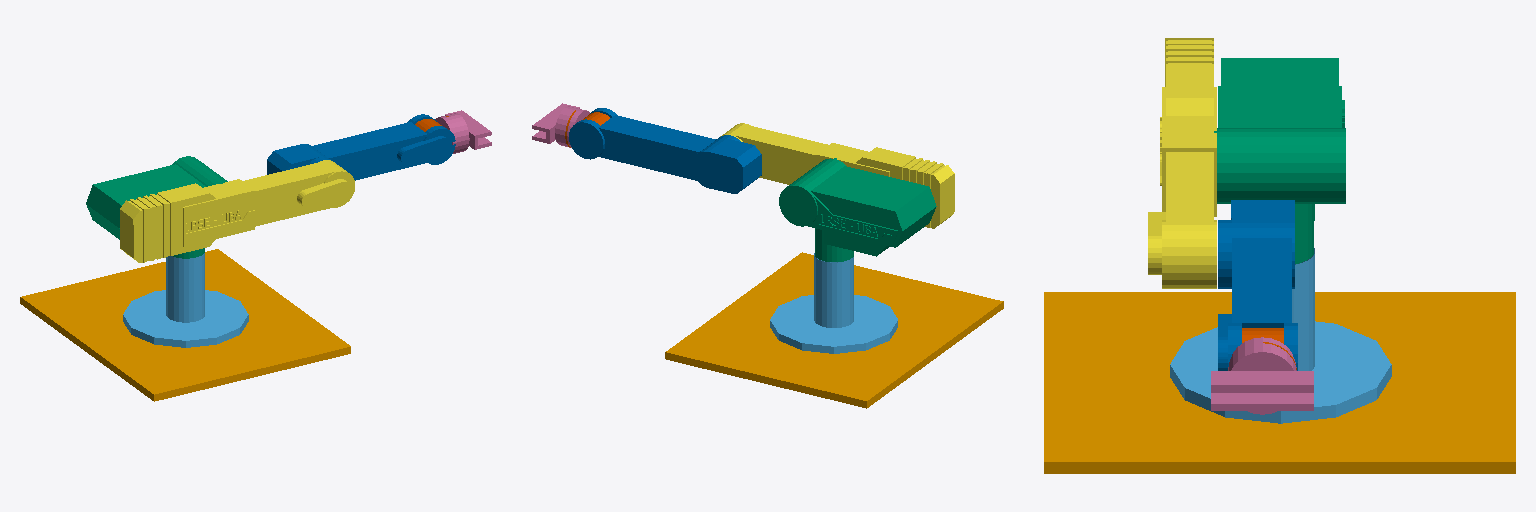
robot.urdf — Scorbot_7:
<?xml version="1.0"?>
<robot name="Scorbot_7">
<link name="table">
    <visual>
      <geometry>
		<mesh filename="package://scorbot_7_moveit/modelo/mesa.dae" scale="1 1 1"/>
      </geometry>
    </visual>
  </link>

  <link name="base_link">
    <visual>
      <geometry>
        <mesh filename="package://scorbot_7_moveit/modelo/base_robot.dae" scale="1 1 1"/>
      </geometry>
      <origin xyz="0 0 0"/>
    </visual>
  </link>
  
  <joint name="table_to_base" type="fixed">
    <parent link="table"/>
    <child link="base_link"/>
    <origin xyz="0 0 0"/>
  </joint>

<link name="link1">
    <visual>
      <geometry>
        <mesh filename="package://scorbot_7_moveit/modelo/link1.dae" scale="1 1 1"/>
      </geometry>
      <origin xyz="0 0 0"/>
    </visual>
  </link>
  
  <joint name="joint1" type="revolute">
    <parent link="base_link"/>
    <child link="link1"/>
    <!--<origin xyz="-0.05 0 -0.378"/>  -->  
    <origin xyz="0 0 0.2"/>   
    <limit effort="1000.0" lower="-2.7" upper="2.7" velocity="0.5"/>
    <axis xyz="0 0 1" />
  </joint>
  
  <link name="link2">
    <visual>
      <geometry>
        <mesh  filename="package://scorbot_7_moveit/modelo/link2.dae" scale="1 1 1"/>
      </geometry>
      <origin xyz="0 0 0" rpy="0 0 0" />
      <material name="robot"/>
    </visual>
  </link>

  <joint name="joint2" type="revolute">
    <parent link="link1"/>
    <child link="link2"/>
    <origin xyz="0.05 -0.09 0.158" rpy="0 0 0" />
    <limit effort="1000.0" lower="-1.74" upper="1.22" velocity="0.5"/>
    <axis xyz="0 1 0" />
  </joint>
  
  <link name="link3">
    <visual>
      <geometry>
        <mesh  filename="package://scorbot_7_moveit/modelo/link3.dae" scale="1 1 1"/>
      </geometry>
      <origin xyz="0 0 0" rpy="0 0 -1.57" />
      <material name="robot"/>
    </visual>
  </link>

  <joint name="joint3" type="revolute">
    <parent link="link2"/>
    <child link="link3"/>
    <origin xyz="0.3 0 0"/>
    <limit effort="1000.0" lower="-1.74" upper="1.74" velocity="0.5"/>
    <axis xyz="0 1 0" />
  </joint>

  <link name="link4">
    <visual>
      <geometry>
        <mesh  filename="package://scorbot_7_moveit/modelo/link4.dae" scale="1 1 1"/>
      </geometry>
      <origin xyz="0 0 0" />
      <material name="robot"/>
    </visual>
  </link>

  <joint name="joint4" type="revolute">
    <parent link="link3"/>
    <child link="link4"/>
    <origin xyz="0.35 0.065 0"/>
    <limit effort="1000.0" lower="-1.57" upper="1.57" velocity="0.5"/>
    <axis xyz="0 1 0" />
  </joint>

  <link name="link5">
    <visual>
      <geometry>
        <mesh  filename="package://scorbot_7_moveit/modelo/link5.dae" scale="1 1 1"/>
      </geometry>
      <origin xyz="0 0.001 0" />  <!-- el 0.001 es una correccion -->
      <material name="robot"/>
    </visual>
  </link>

  <joint name="joint5" type="continuous">
    <parent link="link4"/>
    <child link="link5"/>
    <origin xyz="0.14 0 0"/>
    <axis xyz="1 0 0" />
  </joint>
  
<!--  <link name="gripper_pole">
    <visual>
      <geometry>
        <cylinder length="0.2" radius=".01"/>
      </geometry>
      <origin rpy="0 0 0 " xyz="0 0 0"/>
    </visual>
  </link>
  
  <joint name="joint5_prueba" type="fixed">
    <parent link="link5"/>
    <child link="gripper_pole"/>
    <origin xyz="0 0 0"/>
  </joint>
-->
  <link name="left_gripper">
    <visual>
      <origin rpy="0.0 0 0" xyz="0 0 0"/>
      <geometry>
        <mesh filename="package://pr2_description/meshes/gripper_v0/l_finger.dae"/>
      </geometry>
    </visual>
  </link>
  

  <joint name="left_gripper_joint" type="fixed">
    <axis xyz="0 0 1"/>
    <origin rpy="0 0 0" xyz="0 0.01 0"/>
    <parent link="link5"/>
    <child link="left_gripper"/>
  </joint>
  
<!--
  <joint name="left_gripper_joint" type="revolute">
    <axis xyz="0 0 1"/>
    <limit effort="1000.0" lower="0.0" upper="0.548" velocity="0.5"/>
    <origin rpy="0 0 0" xyz="0 0.01 0"/>
    <parent link="link5"/>
    <child link="left_gripper"/>
  </joint>
-->

  <joint name="left_tip_joint" type="fixed">
    <parent link="left_gripper"/>
    <child link="left_tip"/>
  </joint>

  <link name="left_tip">
    <visual>
      <origin rpy="0.0 0 0" xyz="0.09137 0.00495 0"/>
      <geometry>
        <mesh filename="package://pr2_description/meshes/gripper_v0/l_finger_tip.dae"/>
      </geometry>
    </visual>
  </link>

  <joint name="right_gripper_joint" type="fixed">
    <axis xyz="0 0 -1"/>
    <origin rpy="0 0 0" xyz="0 -0.01 0"/>
    <parent link="link5"/>
    <child link="right_gripper"/>
  </joint>
  
<!--
  <joint name="right_gripper_joint" type="revolute">
    <axis xyz="0 0 -1"/>
    <limit effort="1000.0" lower="0.0" upper="0.548" velocity="0.5"/>
    <origin rpy="0 0 0" xyz="0 -0.01 0"/>
    <parent link="link5"/>
    <child link="right_gripper"/>
  </joint>
-->

  <link name="right_gripper">
    <visual>
      <origin rpy="-3.1415 0 0" xyz="0 0 0"/>
      <geometry>
        <mesh filename="package://pr2_description/meshes/gripper_v0/l_finger.dae"/>
      </geometry>
    </visual>
  </link>

  <joint name="right_tip_joint" type="fixed">
    <parent link="right_gripper"/>
    <child link="right_tip"/>
  </joint>

  <link name="right_tip">
    <visual>
      <origin rpy="-3.1415 0 0" xyz="0.09137 0.00495 0"/>
      <geometry>
        <mesh filename="package://pr2_description/meshes/gripper_v0/l_finger_tip.dae"/>
      </geometry>
    </visual>
  </link>
</robot>

--- What the picture shows (computed from the rendered views, not written in the file) ---
Views: 3 orthographic renders of the robot side by side, from view 1: azimuth 30°, elevation 25°; view 2: azimuth 150°, elevation 25°; view 3: azimuth 270°, elevation 25°.
Model Scorbot_7 with 11 links and 10 joints (4 revolute, 1 continuous, 5 fixed), rooted at table, posed all joints at 0.
Visible links, largest first — view 1: table, link2, base_link, link3, link1, link5; view 2: table, link1, link3, base_link, link2, link5; view 3: table, link1, link2, base_link, link3, link5, link4.
Link boxes in pixels (x1,y1,x2,y2): table: (20, 249, 350, 401); link2: (120, 160, 354, 262); base_link: (123, 253, 248, 347); link3: (267, 114, 455, 180); link1: (86, 156, 227, 258); link5: (435, 110, 491, 153); table: (665, 252, 1003, 408); link1: (779, 158, 936, 261); link3: (569, 108, 761, 193); base_link: (770, 253, 897, 353); link2: (720, 123, 954, 228); link5: (532, 103, 589, 147); table: (1044, 292, 1515, 473); link1: (1214, 58, 1345, 263); link2: (1148, 38, 1216, 288); base_link: (1170, 248, 1391, 423); link3: (1218, 200, 1297, 370); link5: (1211, 337, 1313, 414); link4: (1242, 328, 1296, 369).
Bounding box of the posed robot: 1.13 × 0.68 × 0.453 m (x, y, z).
7 mesh visuals loaded from 9 distinct referenced files (7 Collada DAE); not drawn: 4 (reference not matched to a file when rendering).